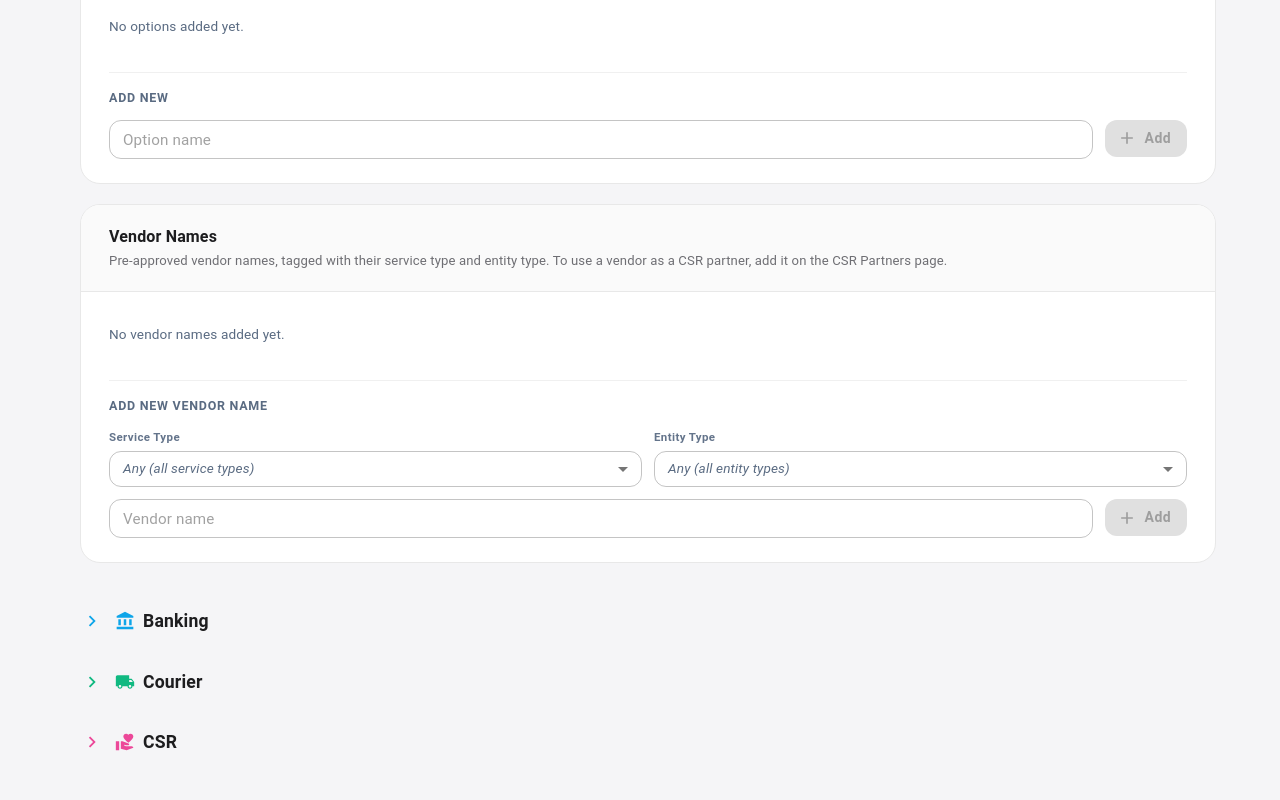
Scenario: a second person with an email already on the list is refused before saving
(page scrolled)
Step 1. Click the text "CSR" → (160, 742), box [143, 729, 177, 755]
(page scrolled)
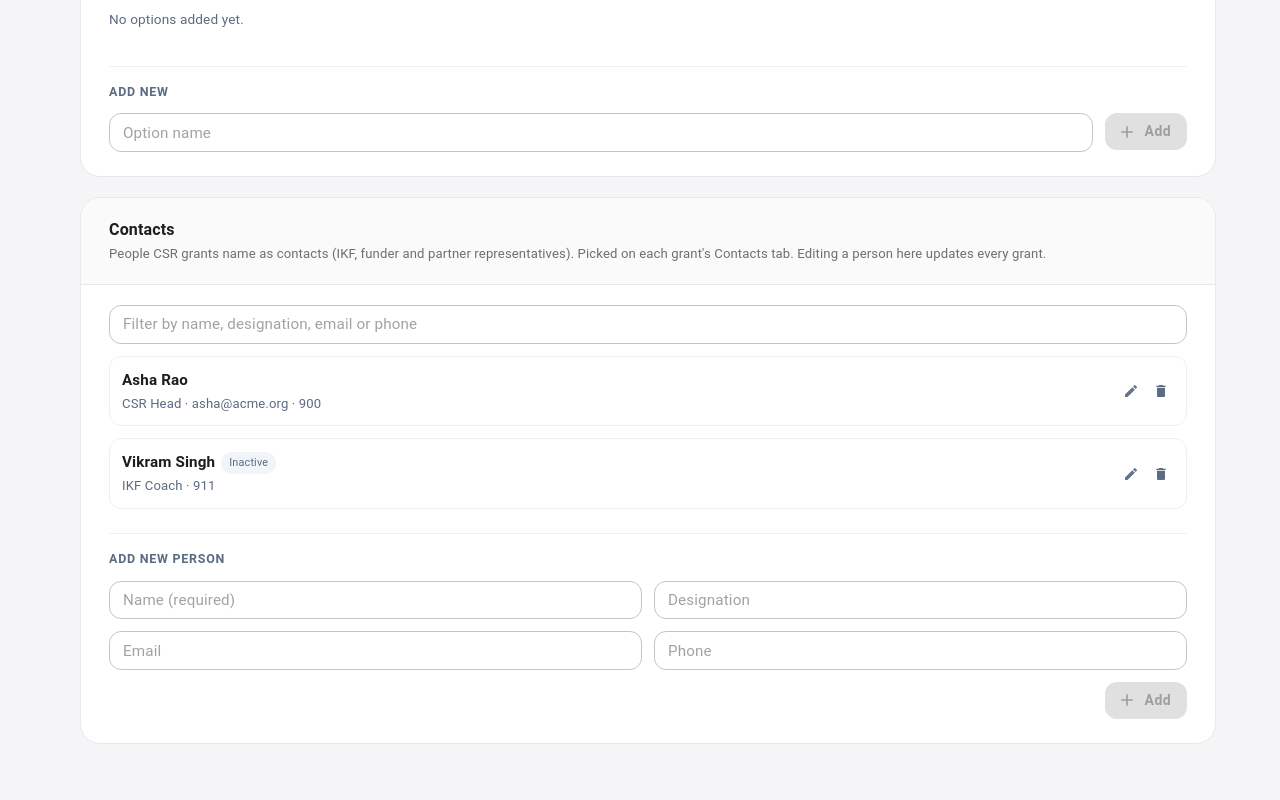
Result: the text "Asha Rao" is shown at [122, 369, 188, 392]
Step 2. Type "A. Rao" into the field named "New person name" → (376, 600), box [109, 580, 642, 619]
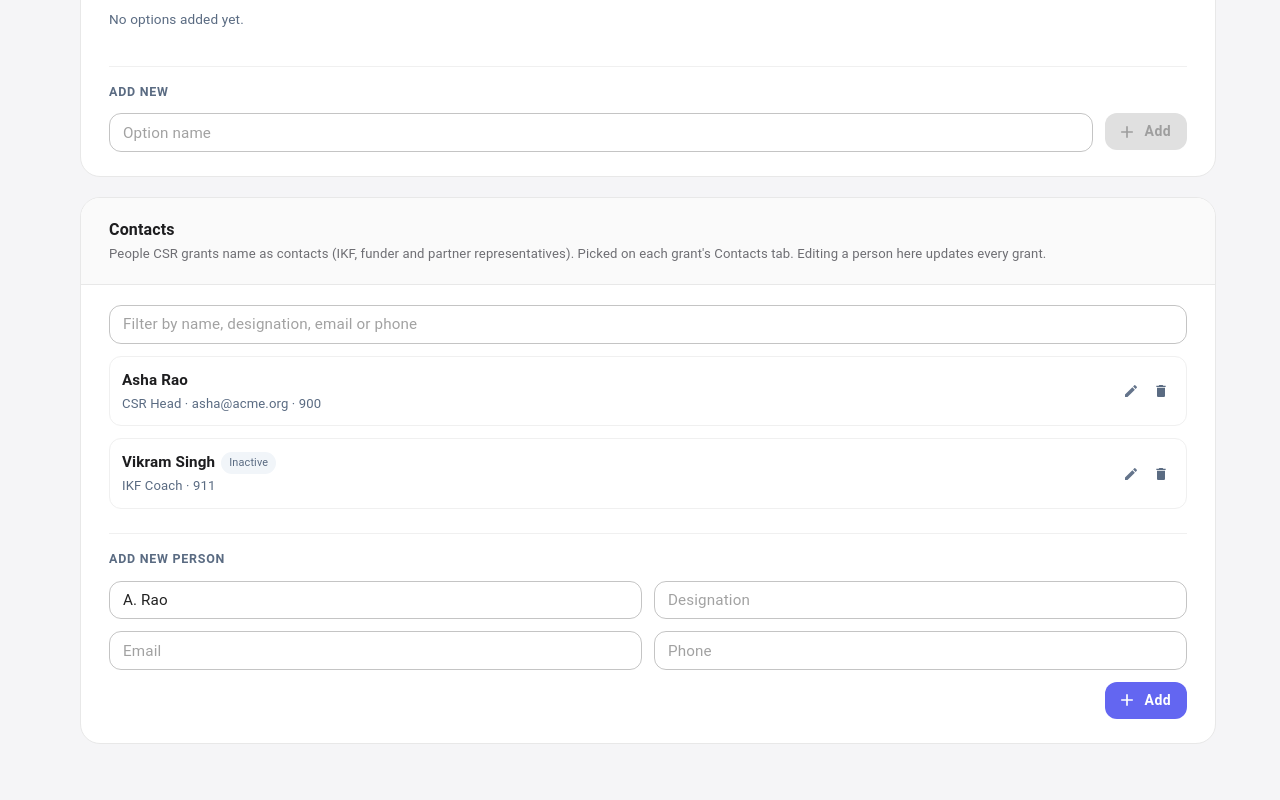
Step 3. Type "ASHA@acme.org" into the field named "New person email" → (376, 651), box [109, 631, 642, 670]
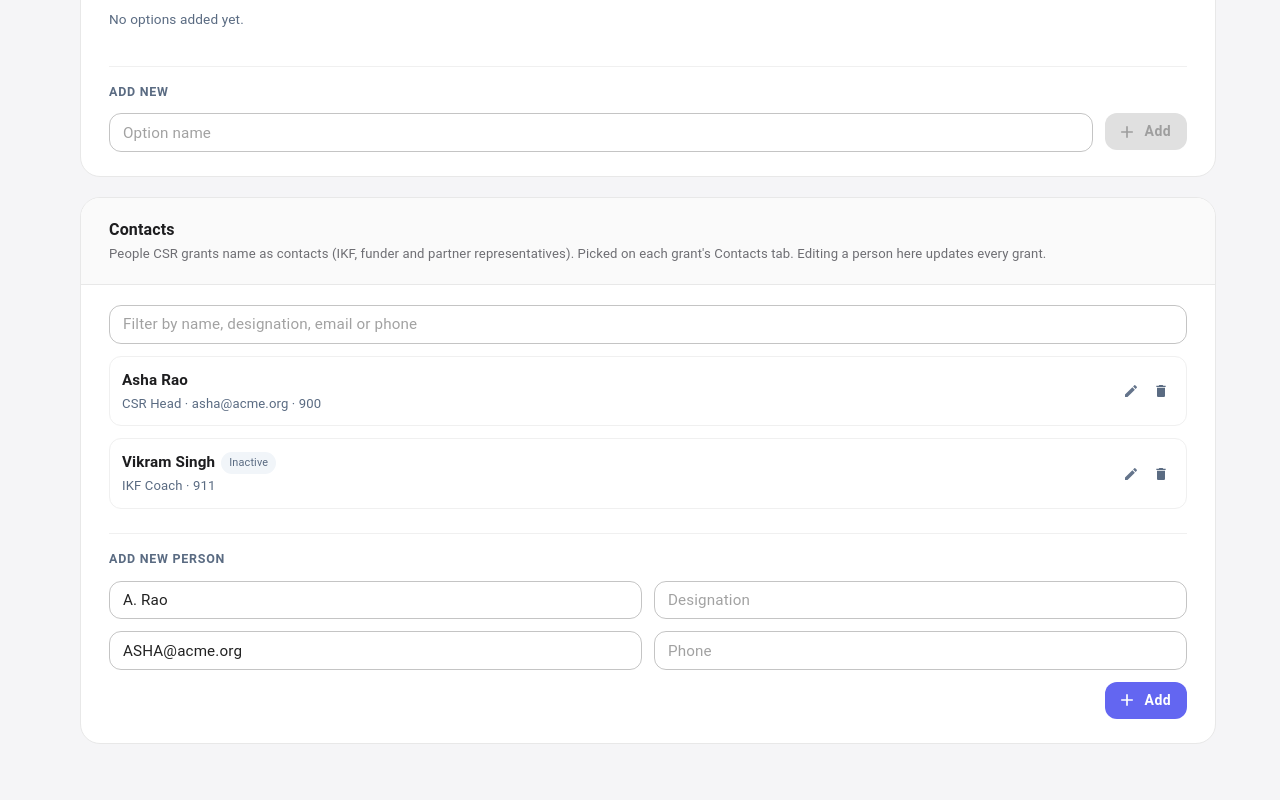
Step 4. Click the 2nd button "Add" → (1146, 700), box [1105, 682, 1187, 719]
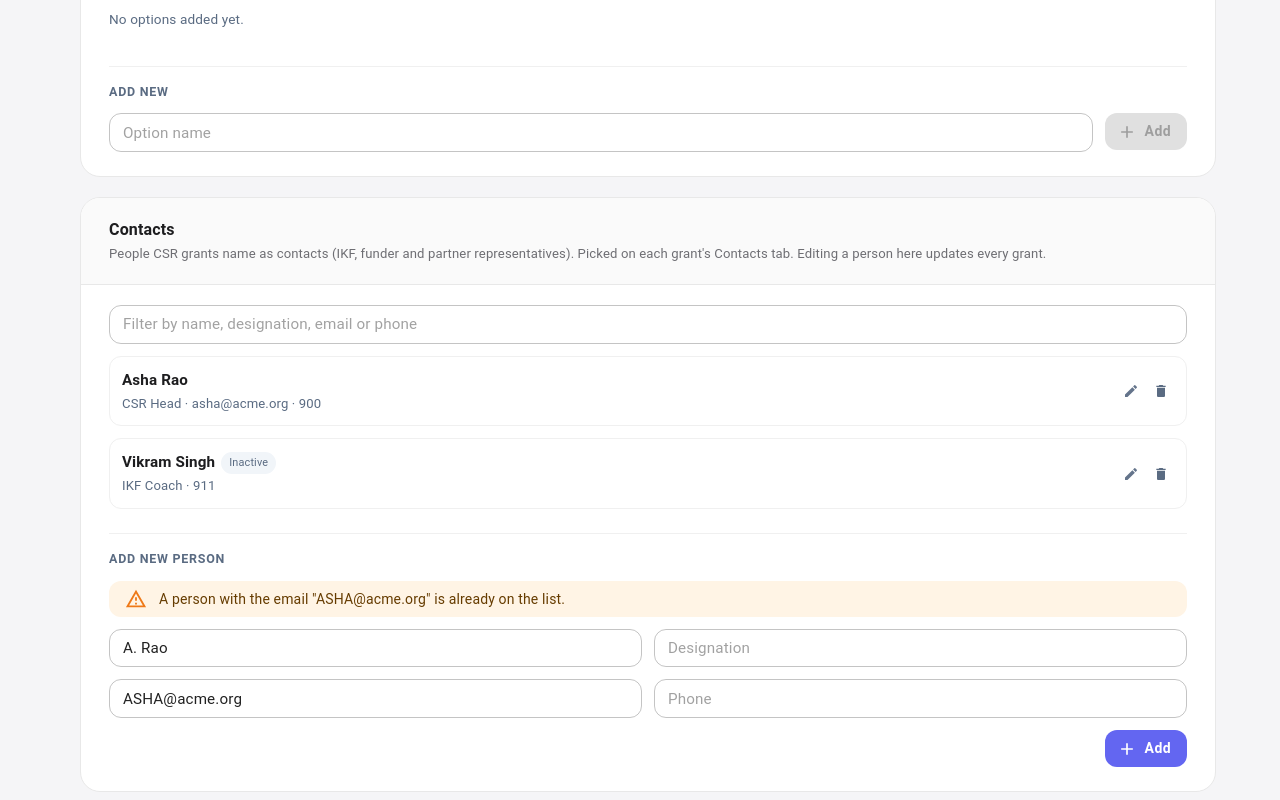
Result: the text "already on the list" is shown at [159, 590, 565, 606]
